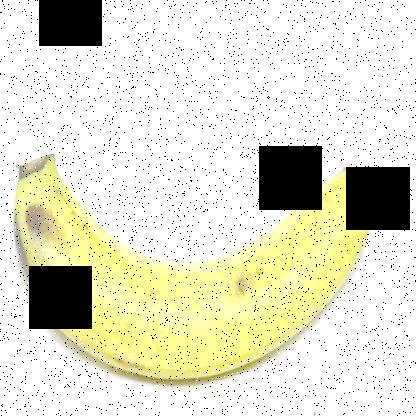freshripe: (2, 125, 385, 391)
